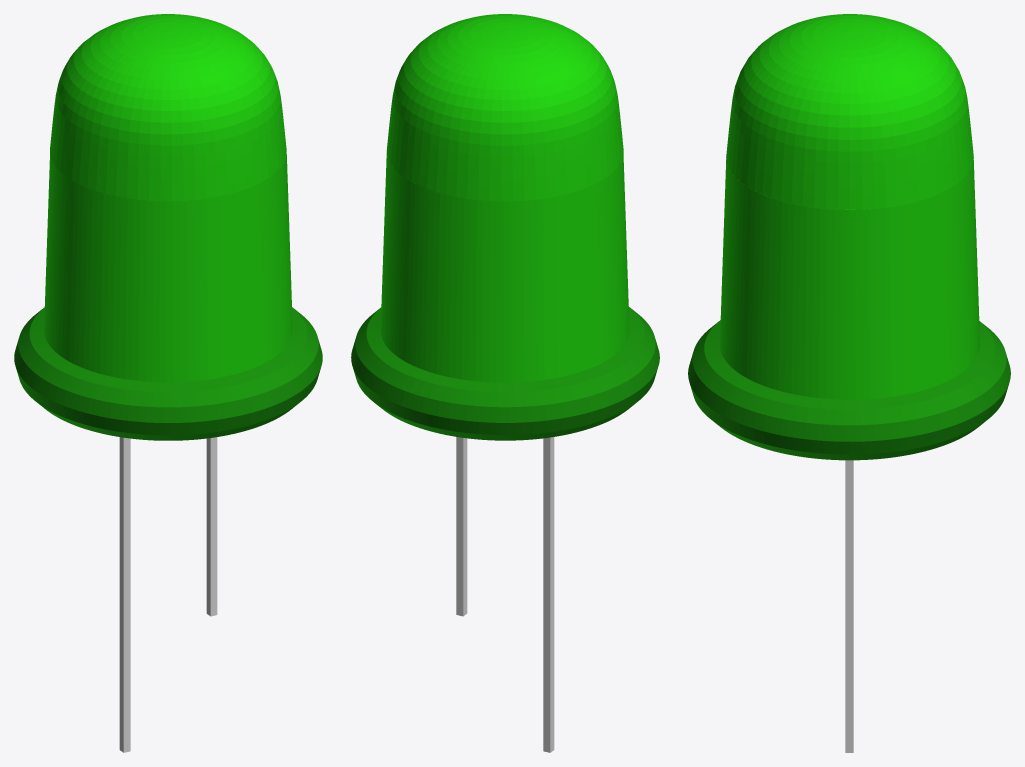
File: LED Green.fbx
3 renders of one model, left to right at view 1: azimuth 30°, elevation 25°; view 2: azimuth 150°, elevation 25°; view 3: azimuth 270°, elevation 25°, orthographic. The views are drawn at different scales.
Parts seen in each view (by area): view 1: Cylinder, Sphere, Torus, Cube, Cube.001; view 2: Cylinder, Sphere, Torus, Cube, Cube.001; view 3: Cylinder, Sphere, Torus, Cube.001, Cube.
Part boxes in pixels (bbox=[...]): Cylinder: bbox=[44, 148, 292, 382]; Sphere: bbox=[50, 14, 286, 201]; Torus: bbox=[14, 307, 322, 440]; Cube: bbox=[119, 437, 130, 752]; Cube.001: bbox=[206, 437, 217, 616]; Cylinder: bbox=[380, 149, 629, 382]; Sphere: bbox=[387, 14, 623, 201]; Torus: bbox=[351, 306, 659, 440]; Cube: bbox=[543, 437, 554, 752]; Cube.001: bbox=[456, 437, 467, 616]; Cylinder: bbox=[720, 160, 979, 399]; Sphere: bbox=[726, 14, 973, 209]; Torus: bbox=[688, 320, 1010, 460]; Cube.001: bbox=[845, 460, 853, 676]; Cube: bbox=[845, 677, 853, 752].
Size of the model in its own units: 164 by 415 by 164.
